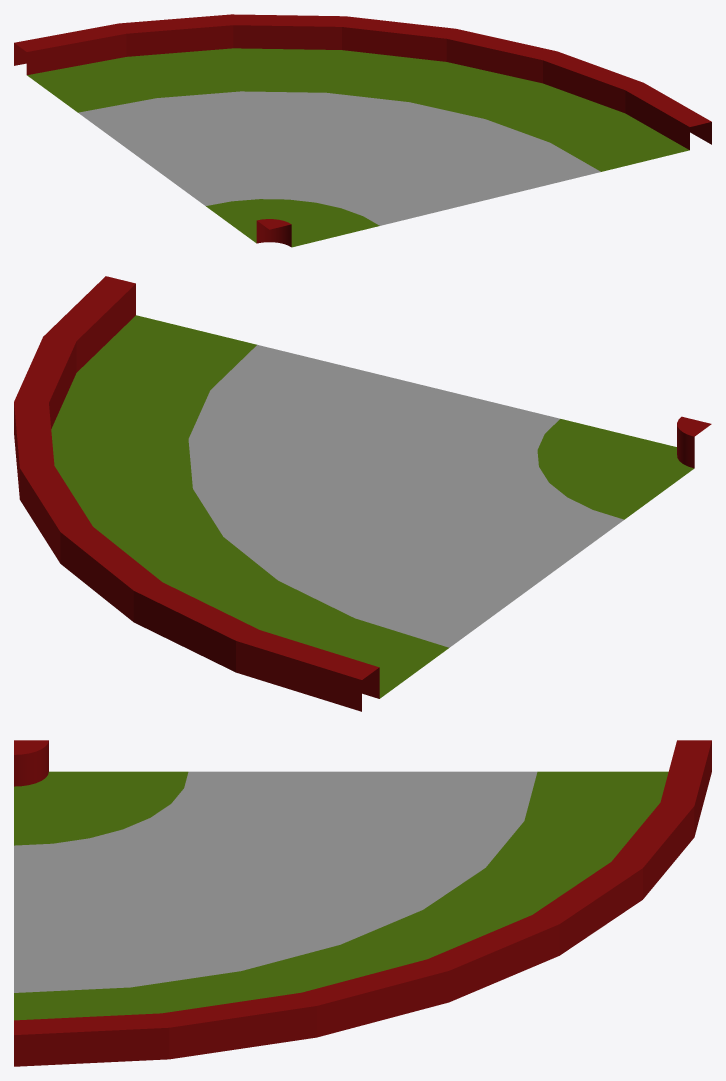
File: roadtile_curve_20x20.FBX
The picture shows the model from 3 angles, top to bottom: view 1: azimuth 30°, elevation 25°; view 2: azimuth 150°, elevation 25°; view 3: azimuth 270°, elevation 25°; orthographic projection. The views are drawn at different scales.
Visible parts, largest first — view 1: Plane005; view 2: Plane005; view 3: Plane005.
Part boxes in pixels (x1=…): Plane005: x1=14, y1=14, x2=711, y2=247; Plane005: x1=14, y1=276, x2=711, y2=711; Plane005: x1=14, y1=740, x2=711, y2=1066.
Bounding box in the file's own units: 787 × 39.37 × 787.
